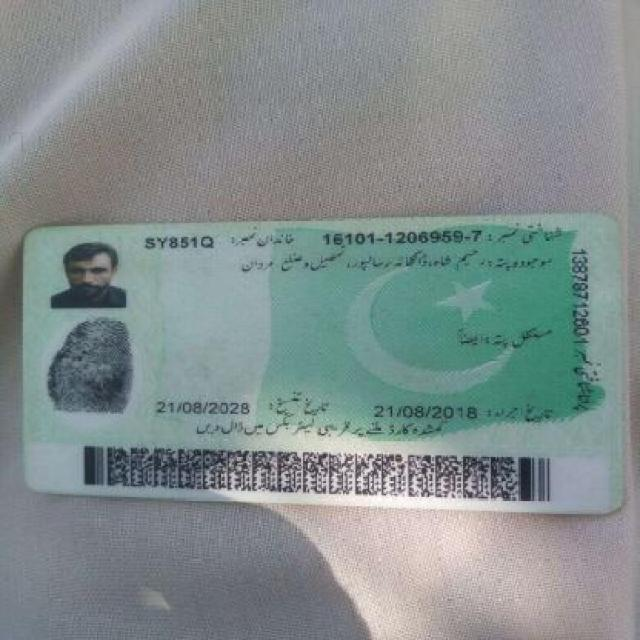Back: (15, 209, 623, 517)
